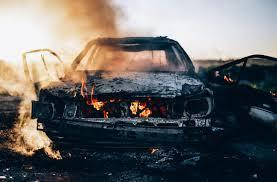fire: (0, 8, 207, 158)
